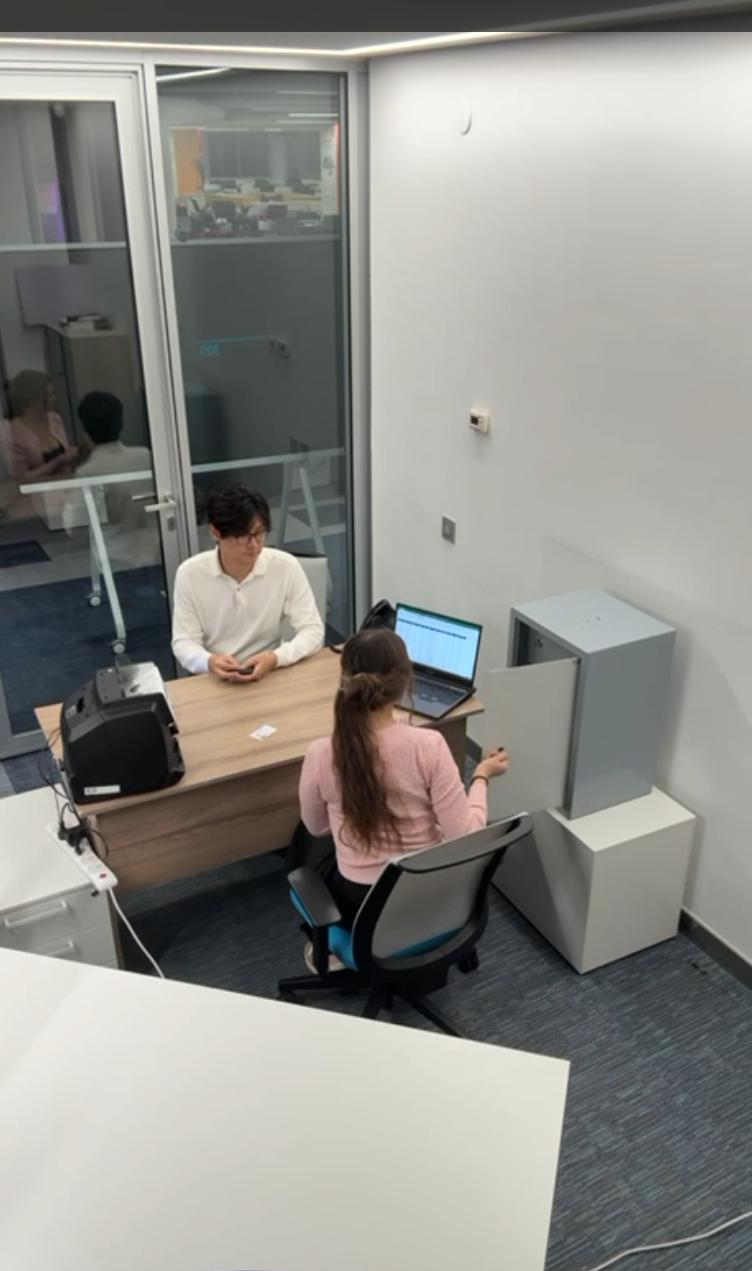counter: (54, 664, 197, 797)
safe_open: (478, 582, 682, 821)
screen_on: (392, 602, 474, 674)
